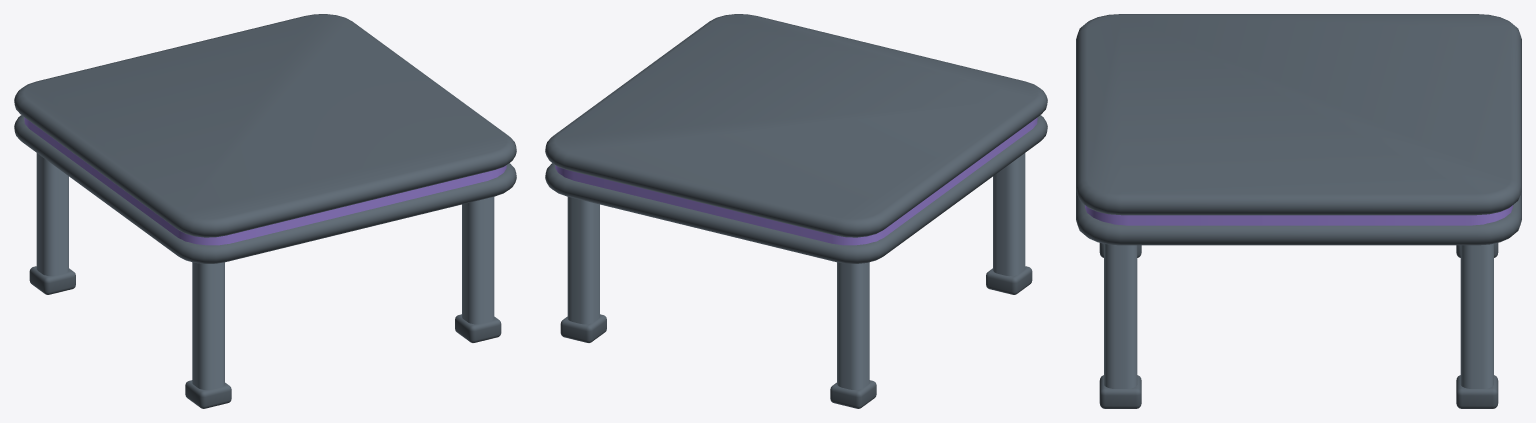
The model's file is Table.fbx.
3 renders of one model, left to right at view 1: azimuth 30°, elevation 25°; view 2: azimuth 150°, elevation 25°; view 3: azimuth 270°, elevation 25°, orthographic. The views are drawn at different scales.
Visible parts, largest first — view 1: Table; view 2: Table; view 3: Table.
Part boxes in pixels (<box>): Table: <box>14,14,516,408</box>; Table: <box>545,14,1047,408</box>; Table: <box>1076,14,1521,408</box>.
Bounding box in the file's own units: 200 × 110 × 200.
